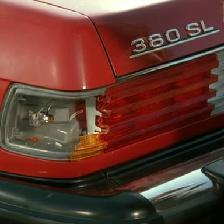tail_lamp: (1, 84, 113, 164)
